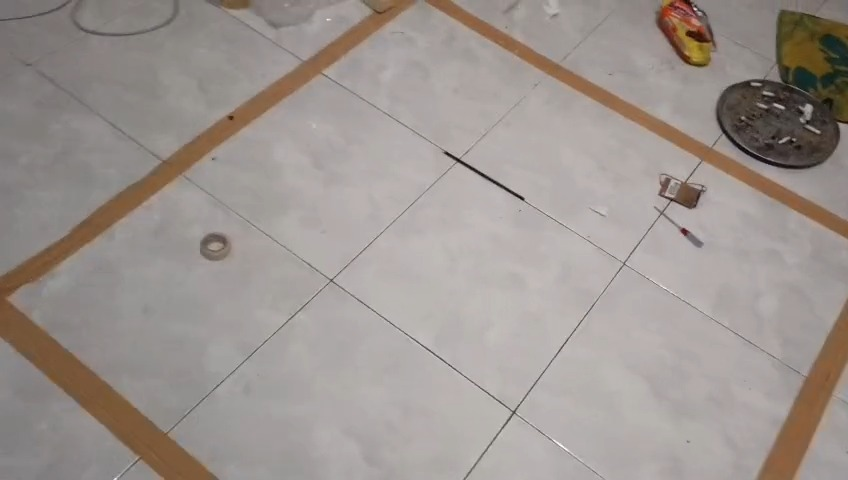floor marking: (0, 0, 413, 478), (426, 0, 847, 238), (759, 300, 847, 479)
